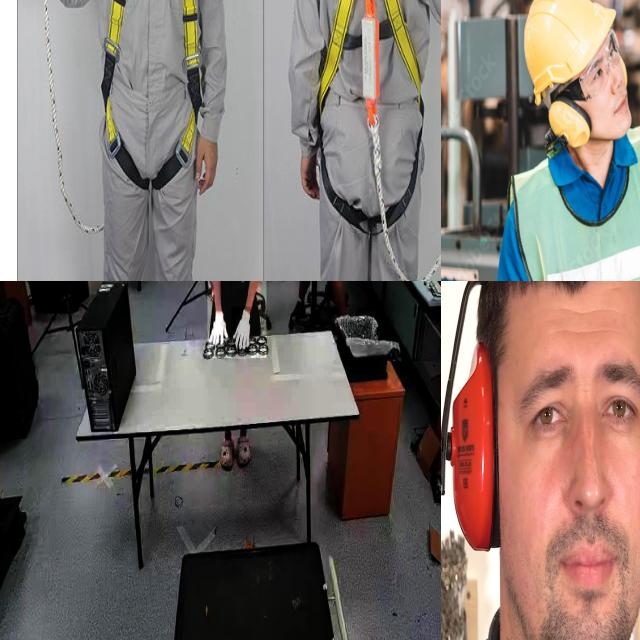Ear-protection: (441, 281, 640, 640), (521, 0, 640, 171)
Harness: (314, 0, 426, 251), (103, 0, 197, 197)
No_Glasses: (499, 331, 640, 486)
hand_glove: (232, 306, 252, 360), (209, 306, 229, 356)
person: (441, 281, 640, 640), (207, 281, 266, 359)
